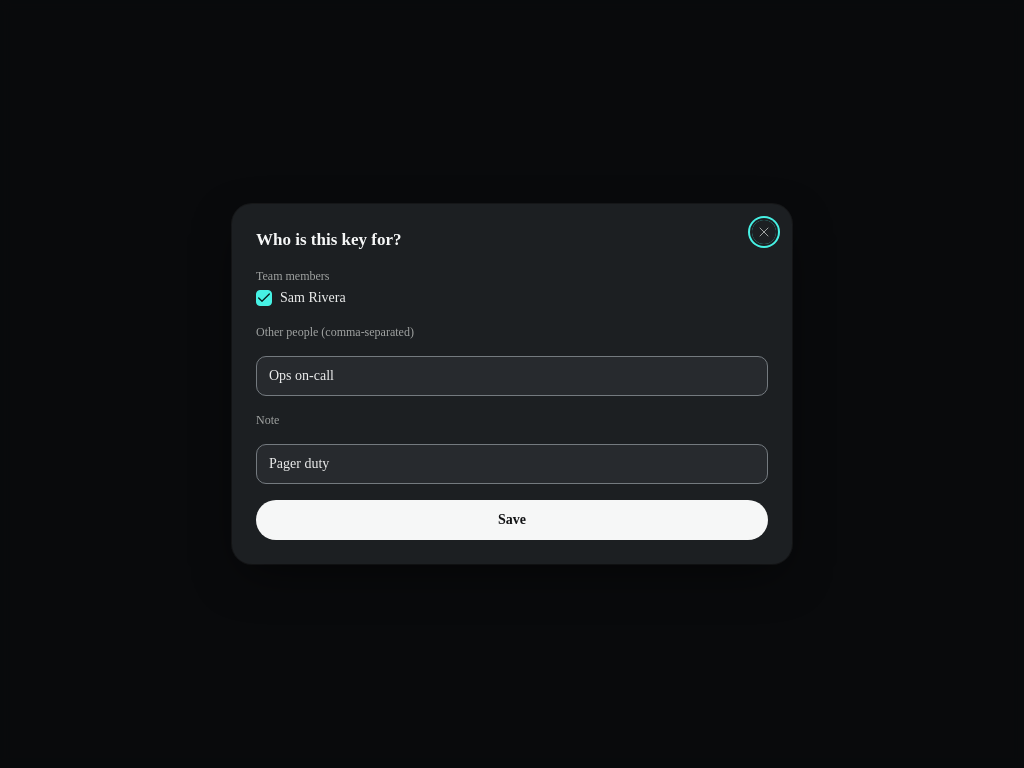
KeyHoldersModal › fills in earlier holders and shows the error the caller returns
The width and height of the screenshot is (1024, 768).
Expected: the checkbox named "Sam Rivera" is checked, [256, 290, 272, 306]
Expected: the field labelled "Other people (comma-separated)" holds "Ops on-call", [269, 366, 755, 386]
Click the button "Save". click: (512, 520)
box: [256, 500, 768, 540]
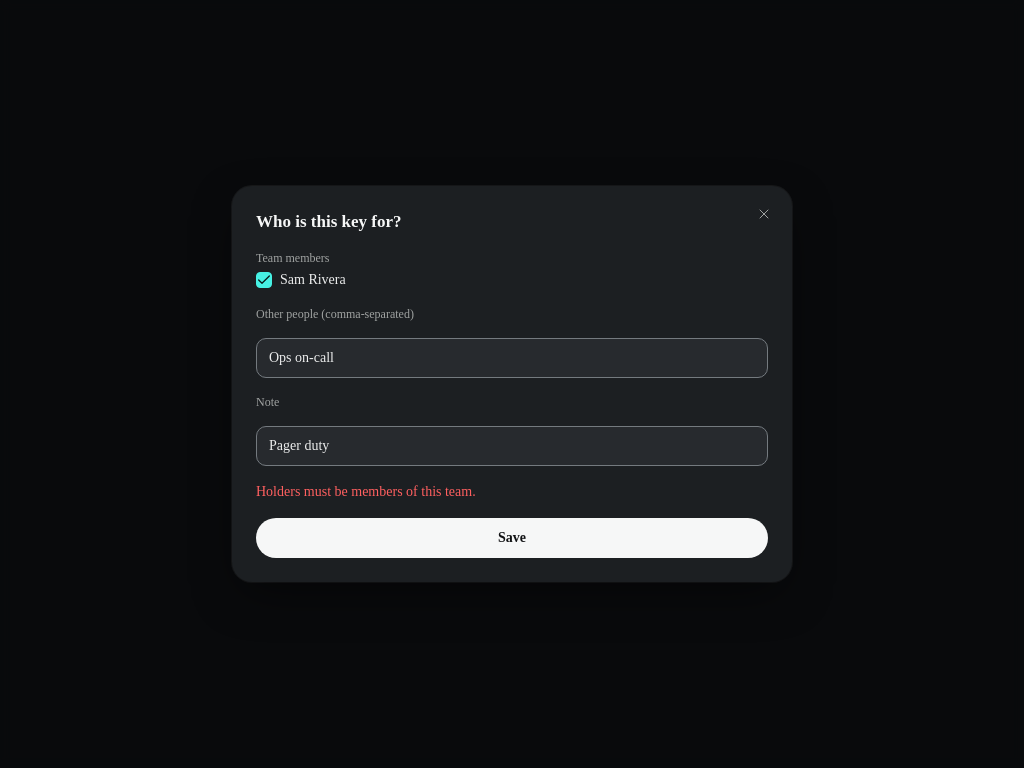
Expected: the message reads "Holders must be members of this team.", [256, 484, 476, 499]
